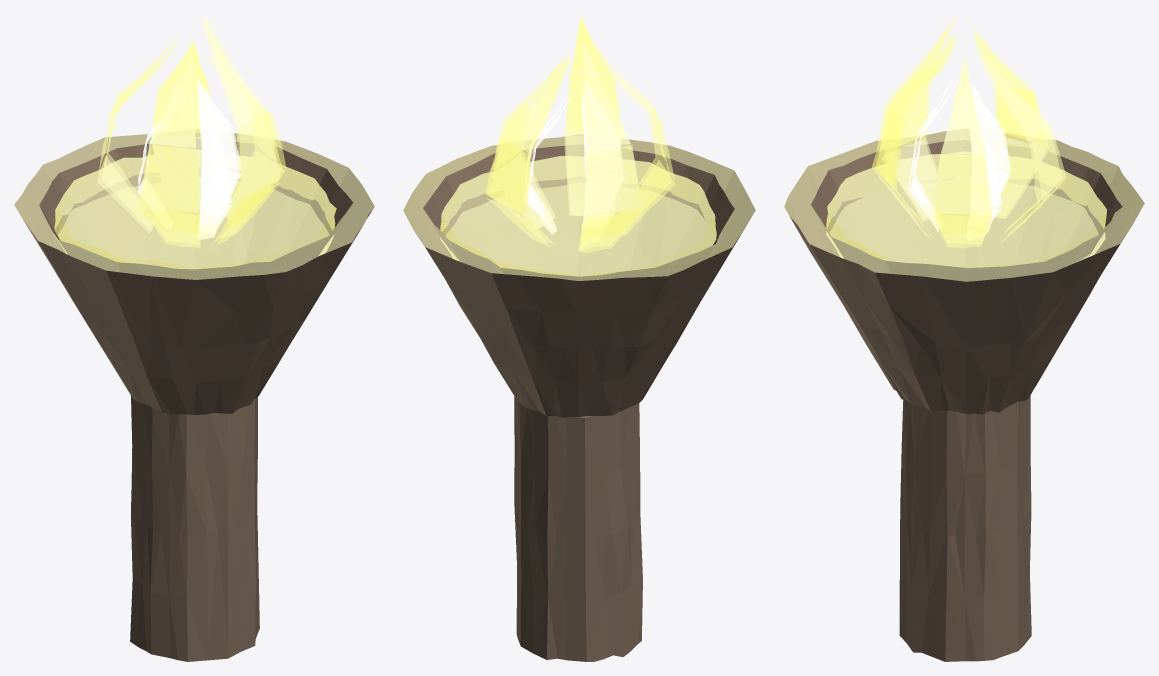
File: SM_Brazier.fbx
The picture shows the model from 3 angles, left to right: view 1: azimuth 30°, elevation 25°; view 2: azimuth 150°, elevation 25°; view 3: azimuth 270°, elevation 25°; orthographic projection.
Parts seen in each view (by area): view 1: SM_Brazier; view 2: SM_Brazier; view 3: SM_Brazier.
Boxes of the visible parts, x1,y1,x2,y2 form: SM_Brazier: [14, 15, 374, 661]; SM_Brazier: [403, 15, 755, 661]; SM_Brazier: [784, 16, 1144, 661].
Bounding box in the file's own units: 0.7167 × 1.38 × 0.7215.
